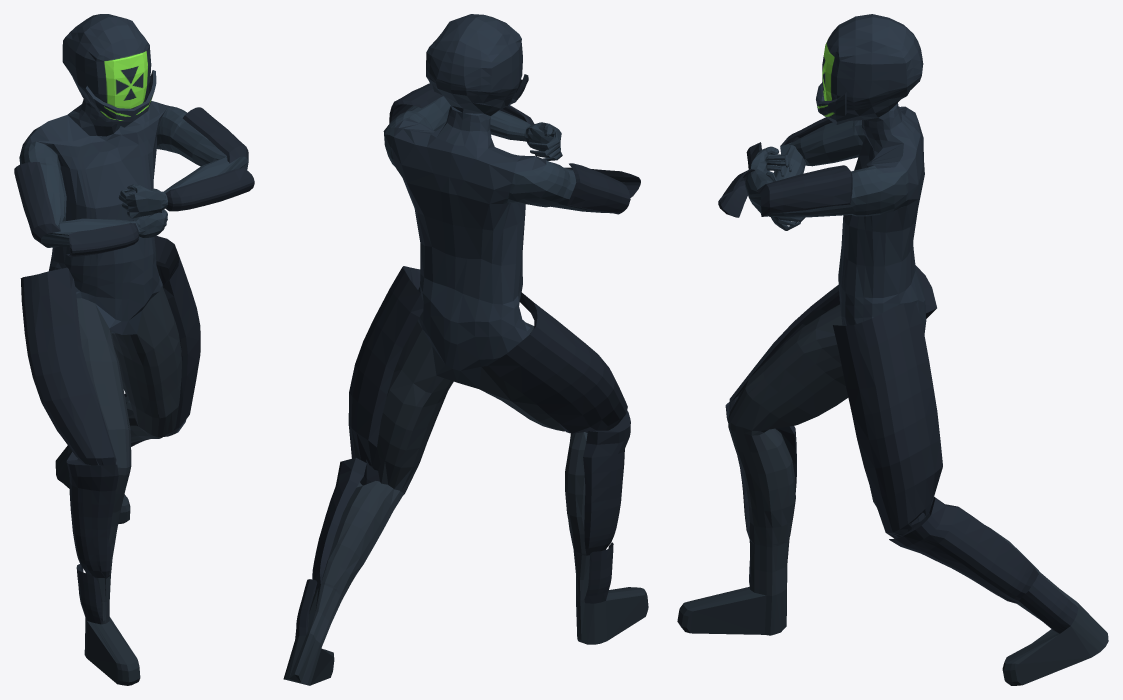
The model's file is Bastion_WL_000023.obj.
3 views of the same model, side by side, from view 1: azimuth 30°, elevation 25°; view 2: azimuth 150°, elevation 25°; view 3: azimuth 270°, elevation 25° (orthographic). The views are drawn at different scales.
Visible parts, largest first — view 1: Cube.002; view 2: Cube.002; view 3: Cube.002.
Boxes of the visible parts, x1,y1,x2,y2 form: Cube.002: (14,14,254,685); Cube.002: (283,14,648,685); Cube.002: (677,14,1108,685).
Size of the model in its own units: 1.34 by 3.58 by 2.17.
